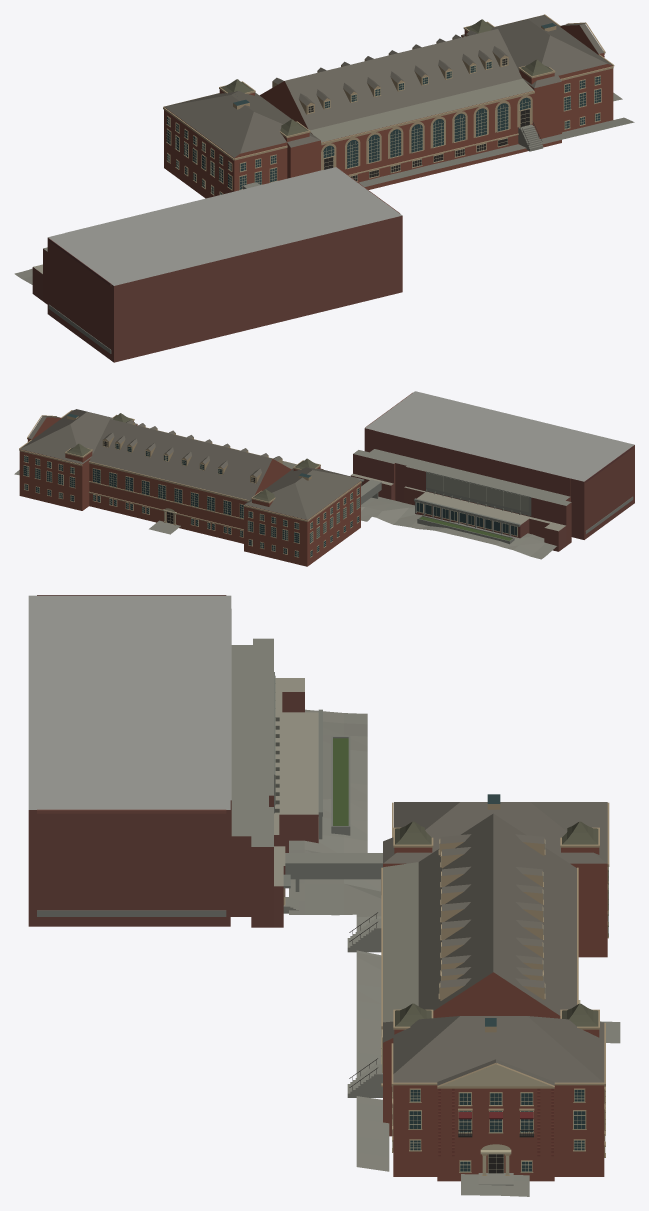
File: site.glb
The picture shows the model from 3 angles, top to bottom: view 1: azimuth 30°, elevation 25°; view 2: azimuth 150°, elevation 25°; view 3: azimuth 270°, elevation 25°; orthographic projection. The views are drawn at different scales.
Parts seen in each view (by area): view 1: roof-9ac93ab7, roof-f0b575d6, gerlinger-approaches; view 2: roof-9ac93ab7, roof-f0b575d6, gerlinger-approaches; view 3: roof-f0b575d6, roof-9ac93ab7, gerlinger-approaches.
Part boxes in pixels (x1,y1,x2,y2): roof-9ac93ab7: [163, 14, 614, 198]; roof-f0b575d6: [32, 167, 402, 362]; gerlinger-approaches: [14, 92, 634, 284]; roof-9ac93ab7: [19, 409, 361, 566]; roof-f0b575d6: [350, 391, 634, 551]; gerlinger-approaches: [14, 470, 556, 559]; roof-f0b575d6: [28, 595, 382, 927]; roof-9ac93ab7: [347, 794, 609, 1185]; gerlinger-approaches: [289, 709, 620, 1196].
Bounding box in the file's own units: 145 × 20.1 × 74.99.
